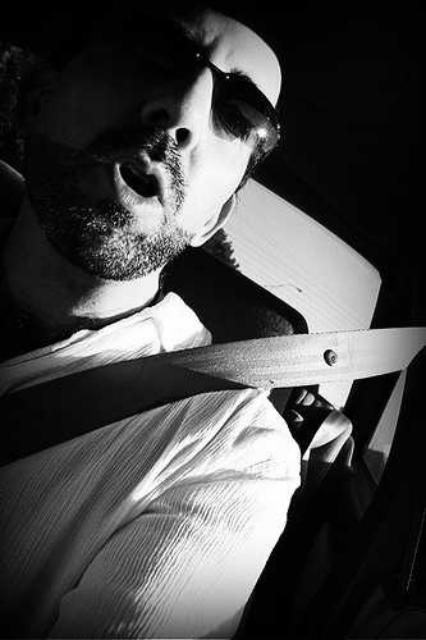Seatbelt: (0, 320, 426, 484)
